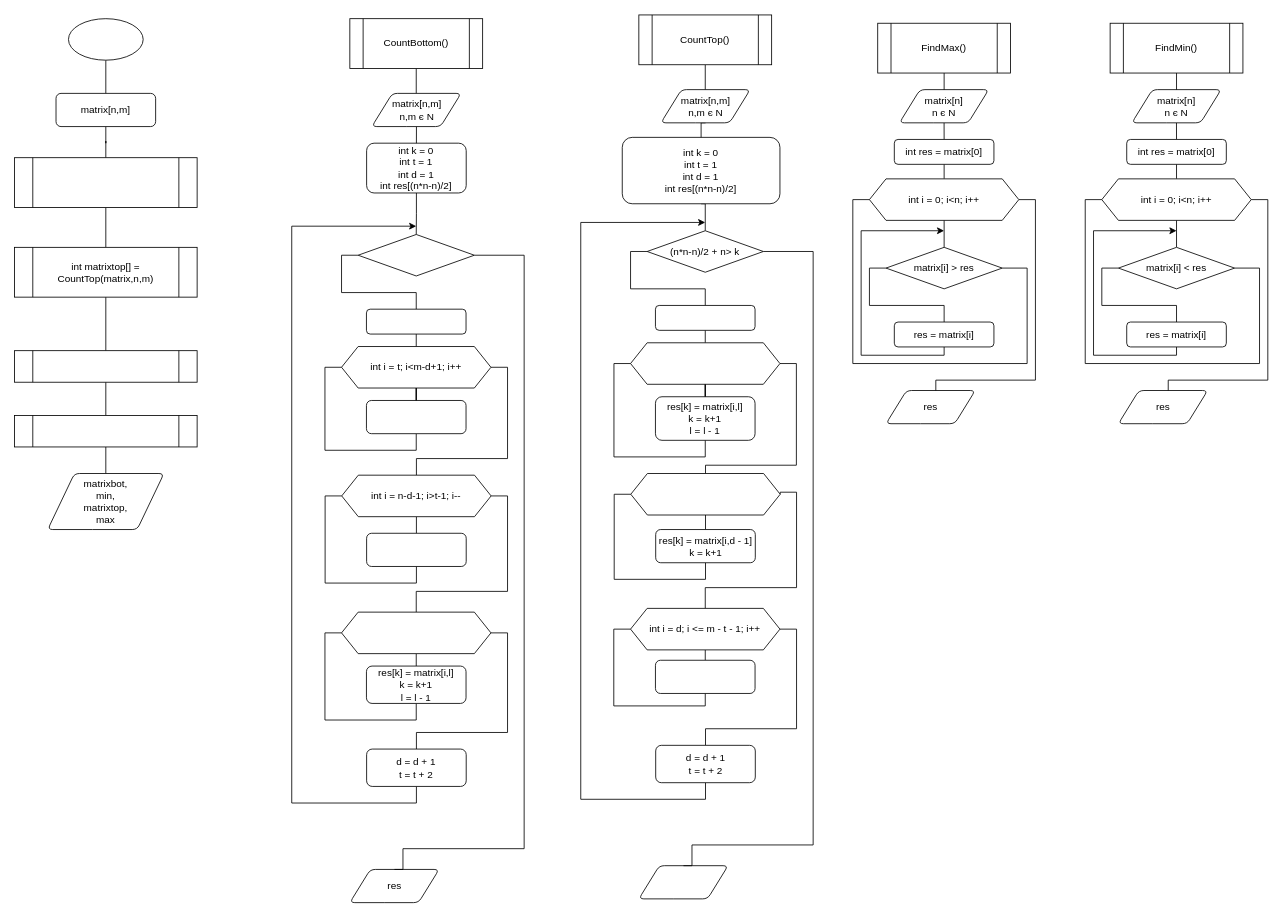
This 1283x917 diagram has some shape labels left out. The centre of each missing label's shape, as x and y in pixels:
(n*n-n)/2 > k: point 415,255
int i = d - 1; i < n - t; i++: point 705,363
int i = n - t - 1; i >= d - 1; i--: point 705,494
int i = t; i<n-d; i++: point 416,632
int l = m - d - 1: point 416,321
int l = m - t: point 705,317
int matrixbot[] = CountBottom(matrix,n,m): point 105,182
int max = FindMax(matrixtop): point 105,431
int min = FindMin(matrixbot): point 105,366
matrix: point 683,882
res[k] = matrix[d - 1,i] k = k+1: point 705,676
res[k] = matrix[i,m - d] k = k+1: point 416,549
res[k] = matrix[n-d,i] k = k+1: point 416,417
start: point 105,39
